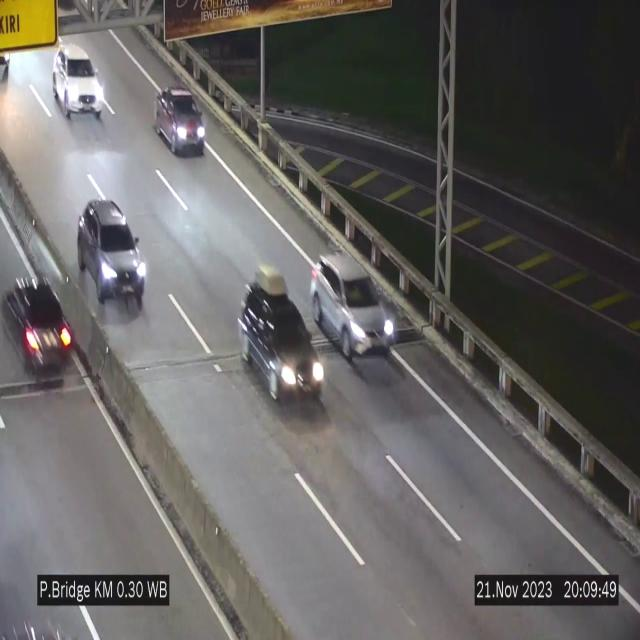Car: (238, 265, 322, 412), (0, 255, 76, 393), (313, 247, 393, 362), (78, 200, 146, 312), (53, 44, 103, 119), (154, 85, 206, 155)
